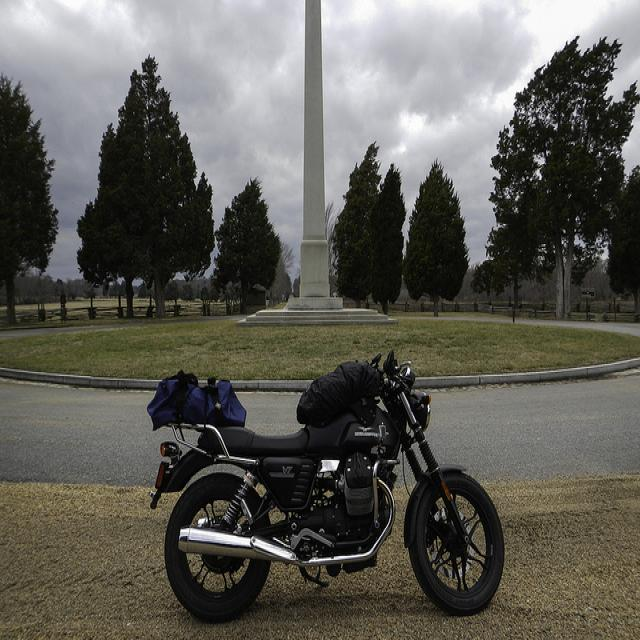motor: (143, 339, 507, 616)
